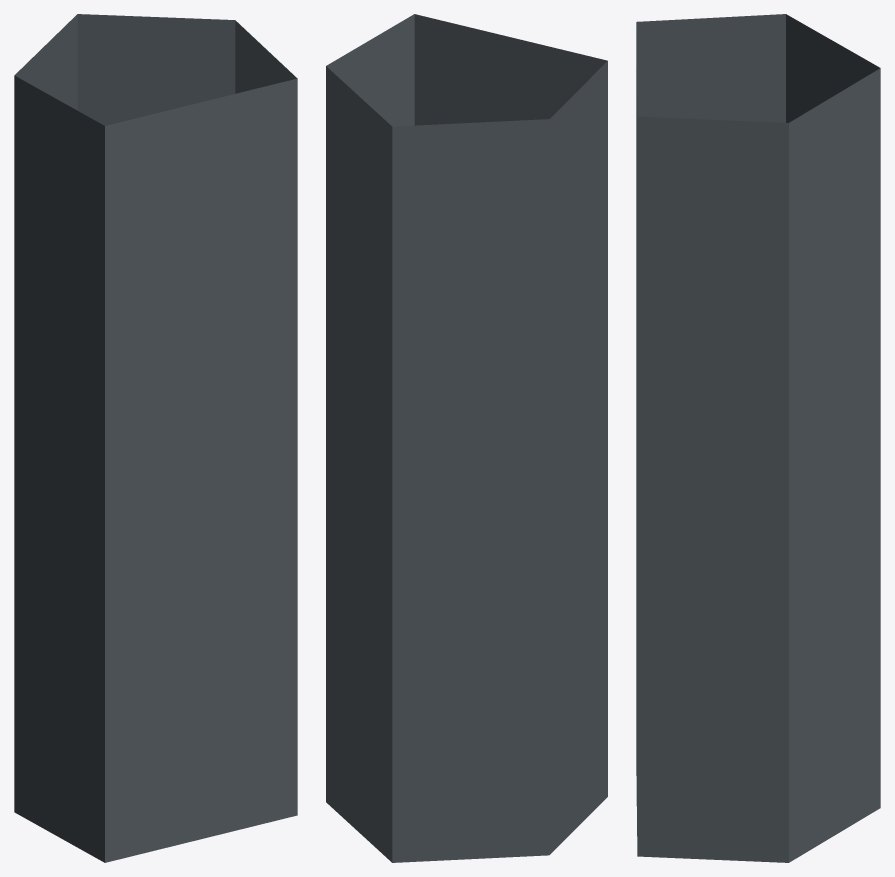
File: SM_Prop_Chute_Tube_01.fbx
The picture shows the model from 3 angles, left to right: view 1: azimuth 30°, elevation 25°; view 2: azimuth 150°, elevation 25°; view 3: azimuth 270°, elevation 25°; orthographic projection.
Visible parts, largest first — view 1: SM_Prop_Chute_Tube_01; view 2: SM_Prop_Chute_Tube_01; view 3: SM_Prop_Chute_Tube_01.
Boxes of the visible parts, bbox=[...] form: SM_Prop_Chute_Tube_01: bbox=[14, 14, 297, 862]; SM_Prop_Chute_Tube_01: bbox=[326, 14, 607, 862]; SM_Prop_Chute_Tube_01: bbox=[636, 14, 880, 862].
Size of the model in its own units: 94.7 by 300 by 89.75.
